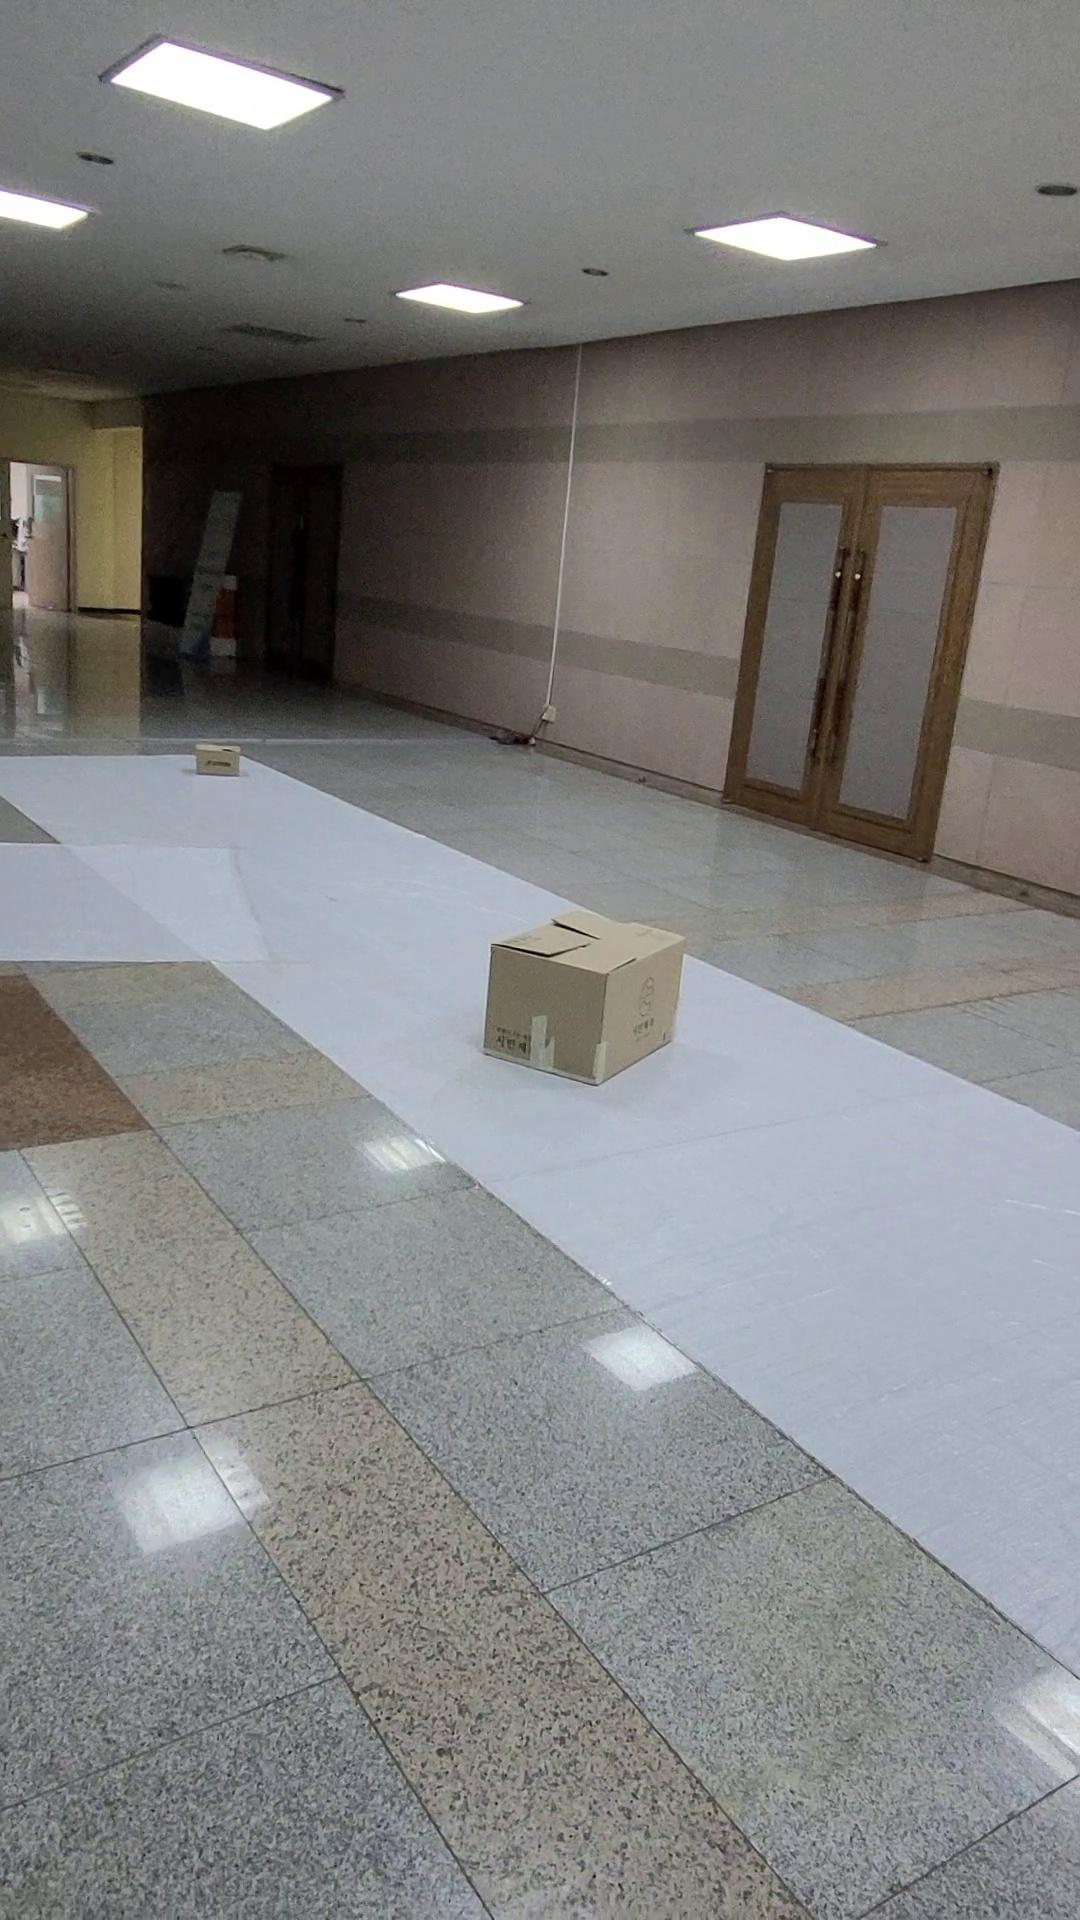Box: (458, 895, 732, 1137), (161, 717, 273, 798)
